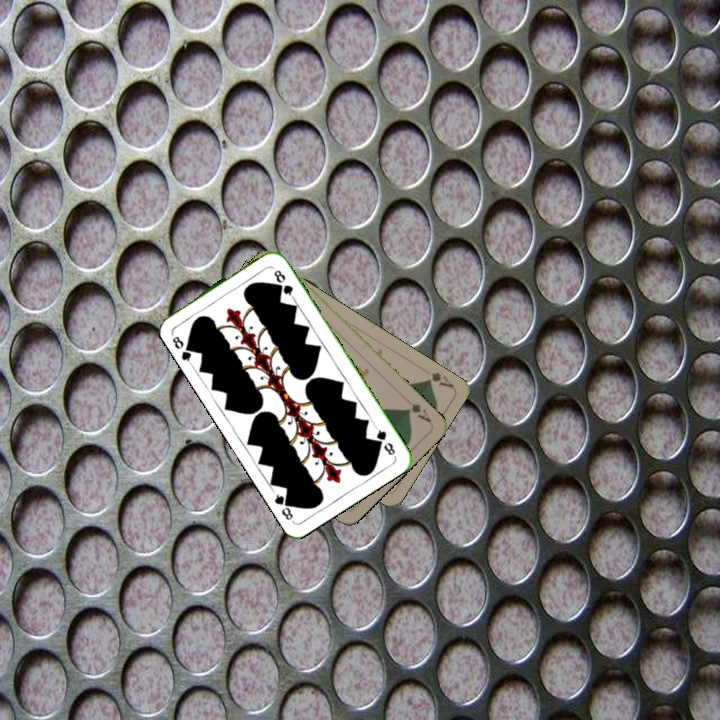G8: (167, 329, 197, 366), (371, 423, 398, 458)
GA: (401, 394, 434, 426), (423, 368, 456, 390)
